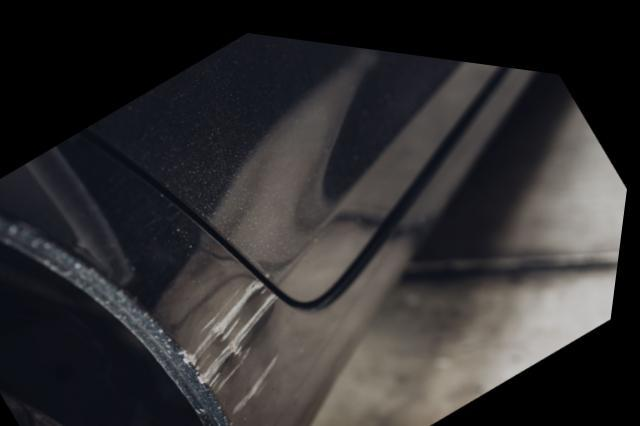scratch: (181, 264, 294, 414)
